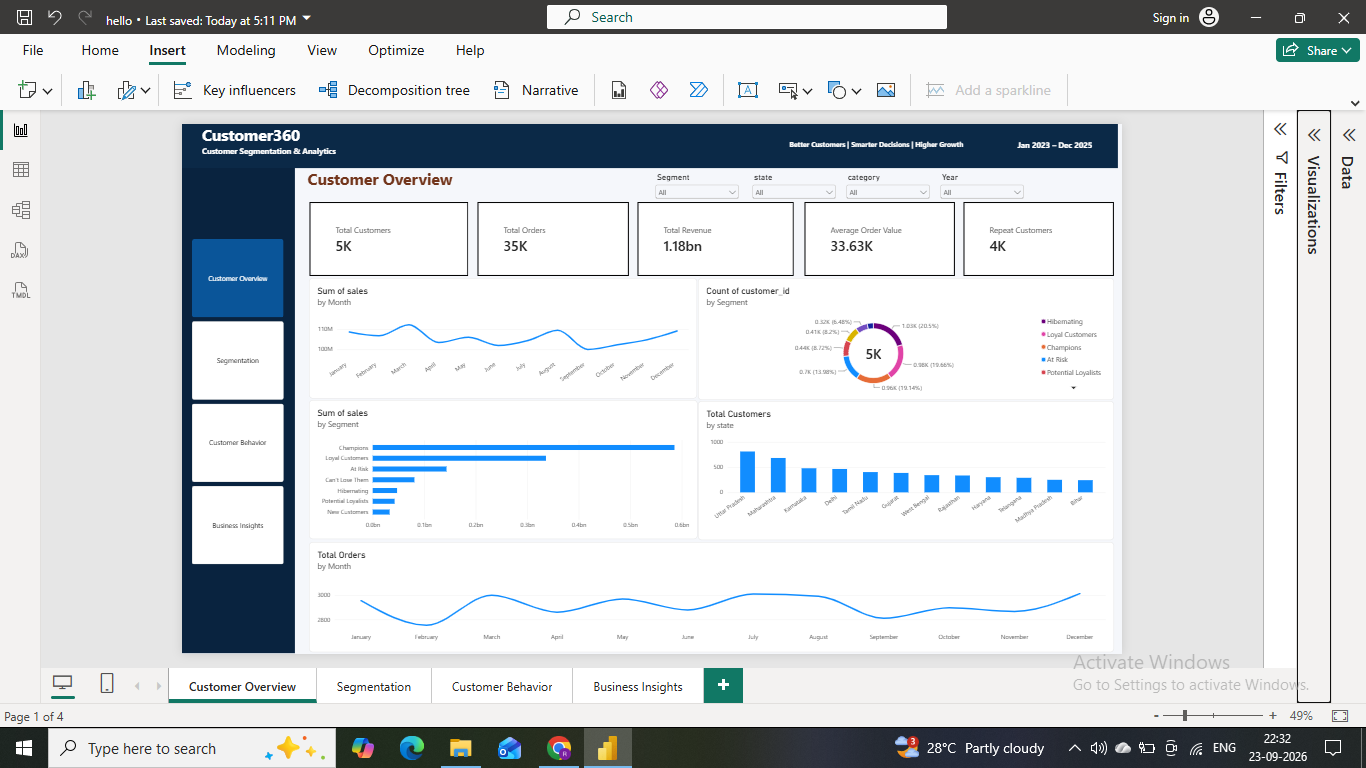

This screenshot's page, from the dashboard's own definition file:
{"tool":"powerbi","page":{"name":"Customer Overview","canvas":[1920,1080],"ordinal":0},"visuals":[{"type":"shape","box":[0,0,1910,90],"z":0},{"type":"textbox","box":[40,0,382.5,120],"z":1000},{"type":"textbox","box":[40.3,45.4,383,45.4],"z":2000},{"type":"shape","box":[0,90,230,990],"z":3000},{"type":"textbox","box":[847.5,32.5,747.5,57.5],"z":5000},{"type":"textbox","box":[1632.5,32.5,225,57.5],"z":6000},{"type":"textbox","box":[230,90,355.7,57.1],"z":7000},{"type":"slicer","fields":{"Values":["customer360_db customer360.Segment"]},"box":[961.4,97.1,180,70],"z":8000},{"type":"slicer","fields":{"Values":["customer360_db customers.state"]},"box":[1160,97.1,180,70],"z":9000},{"type":"slicer","fields":{"Values":["customer360_db products.category"]},"box":[1350,97.1,180,70],"z":10000},{"type":"slicer","fields":{"Values":["customer360_db customer360.signup_date.Variation.Date Hierarchy.Year"]},"box":[1542.9,97.1,180,70],"z":11000},{"type":"cardVisual","fields":{"Data":["Measures (3).Total Customers"]},"box":[258.6,158.6,325.1,151.9],"z":13000},{"type":"cardVisual","fields":{"Data":["Measures (3).Total Orders"]},"box":[602.9,158.6,310.9,151.9],"z":14000},{"type":"cardVisual","fields":{"Data":["Measures (3).Total Revenue"]},"box":[928.6,158.6,320.4,151.9],"z":15000},{"type":"cardVisual","fields":{"Data":["Measures (3).Repeat Customers"]},"box":[1594.3,158.6,308.5,151.9],"z":16000},{"type":"cardVisual","fields":{"Data":["Measures (3).Average Order Value"]},"box":[1270,158.6,308.5,151.9],"z":17000},{"type":"lineChart","title":" MONTHLY REVENUE ","fields":{"Category":["customer360_db orders.order_date.Variation.Date Hierarchy.Month"],"Y":["Sum(customer360_db orders.sales)"]},"box":[260,313.3,792.3,246.2],"z":18000},{"type":"donutChart","title":"CUSTOMER SEGMENT ","fields":{"Category":["customer360_db customer360.Segment"],"Y":["CountNonNull(customer360_db customer360.customer_id)"]},"box":[1053.3,313.3,848.9,248.9],"z":19000},{"type":"barChart","title":" REVENUE BY SEGMENT","fields":{"Category":["customer360_db customer360.Segment"],"Y":["Sum(customer360_db orders.sales)"]},"box":[258.6,563.8,792.9,284.3],"z":20000},{"type":"columnChart","title":"CUSTOMERS BY STATE","fields":{"Category":["customer360_db customer360.state"],"Y":["Measures (3).Total Customers"]},"box":[1053.3,564.4,848.9,284.4],"z":21000},{"type":"lineChart","title":"MONTHLY ORDERS","fields":{"Category":["customer360_db orders.order_date.Variation.Date Hierarchy.Month"],"Y":["Measures (3).Total Orders"]},"box":[259.4,852.2,1643.5,224.6],"z":22000},{"type":"pageNavigator","box":[21.3,233.9,187.1,665.4],"z":22001}]}

Visuals, with their boxes on the page's 1920x1080 design canvas (x1, y1, x2, y2). These are canvas units, not pixel positions in the 1366x768 screenshot, which may show the page scaled, cropped or inside an application window:
shape: (x1=0, y1=0, x2=1910, y2=90)
textbox: (x1=40, y1=0, x2=422, y2=120)
textbox: (x1=40, y1=45, x2=423, y2=91)
shape: (x1=0, y1=90, x2=230, y2=1080)
textbox: (x1=848, y1=32, x2=1595, y2=90)
textbox: (x1=1632, y1=32, x2=1858, y2=90)
textbox: (x1=230, y1=90, x2=586, y2=147)
slicer - customer360_db customer360.Segment: (x1=961, y1=97, x2=1141, y2=167)
slicer - customer360_db customers.state: (x1=1160, y1=97, x2=1340, y2=167)
slicer - customer360_db products.category: (x1=1350, y1=97, x2=1530, y2=167)
slicer - customer360_db customer360.signup_date.Variation.Date Hierarchy.Year: (x1=1543, y1=97, x2=1723, y2=167)
cardVisual - Measures (3).Total Customers: (x1=259, y1=159, x2=584, y2=310)
cardVisual - Measures (3).Total Orders: (x1=603, y1=159, x2=914, y2=310)
cardVisual - Measures (3).Total Revenue: (x1=929, y1=159, x2=1249, y2=310)
cardVisual - Measures (3).Repeat Customers: (x1=1594, y1=159, x2=1903, y2=310)
cardVisual - Measures (3).Average Order Value: (x1=1270, y1=159, x2=1578, y2=310)
" MONTHLY REVENUE " lineChart: (x1=260, y1=313, x2=1052, y2=560)
"CUSTOMER SEGMENT " donutChart: (x1=1053, y1=313, x2=1902, y2=562)
" REVENUE BY SEGMENT" barChart: (x1=259, y1=564, x2=1052, y2=848)
"CUSTOMERS BY STATE" columnChart: (x1=1053, y1=564, x2=1902, y2=849)
"MONTHLY ORDERS" lineChart: (x1=259, y1=852, x2=1903, y2=1077)
pageNavigator: (x1=21, y1=234, x2=208, y2=899)
